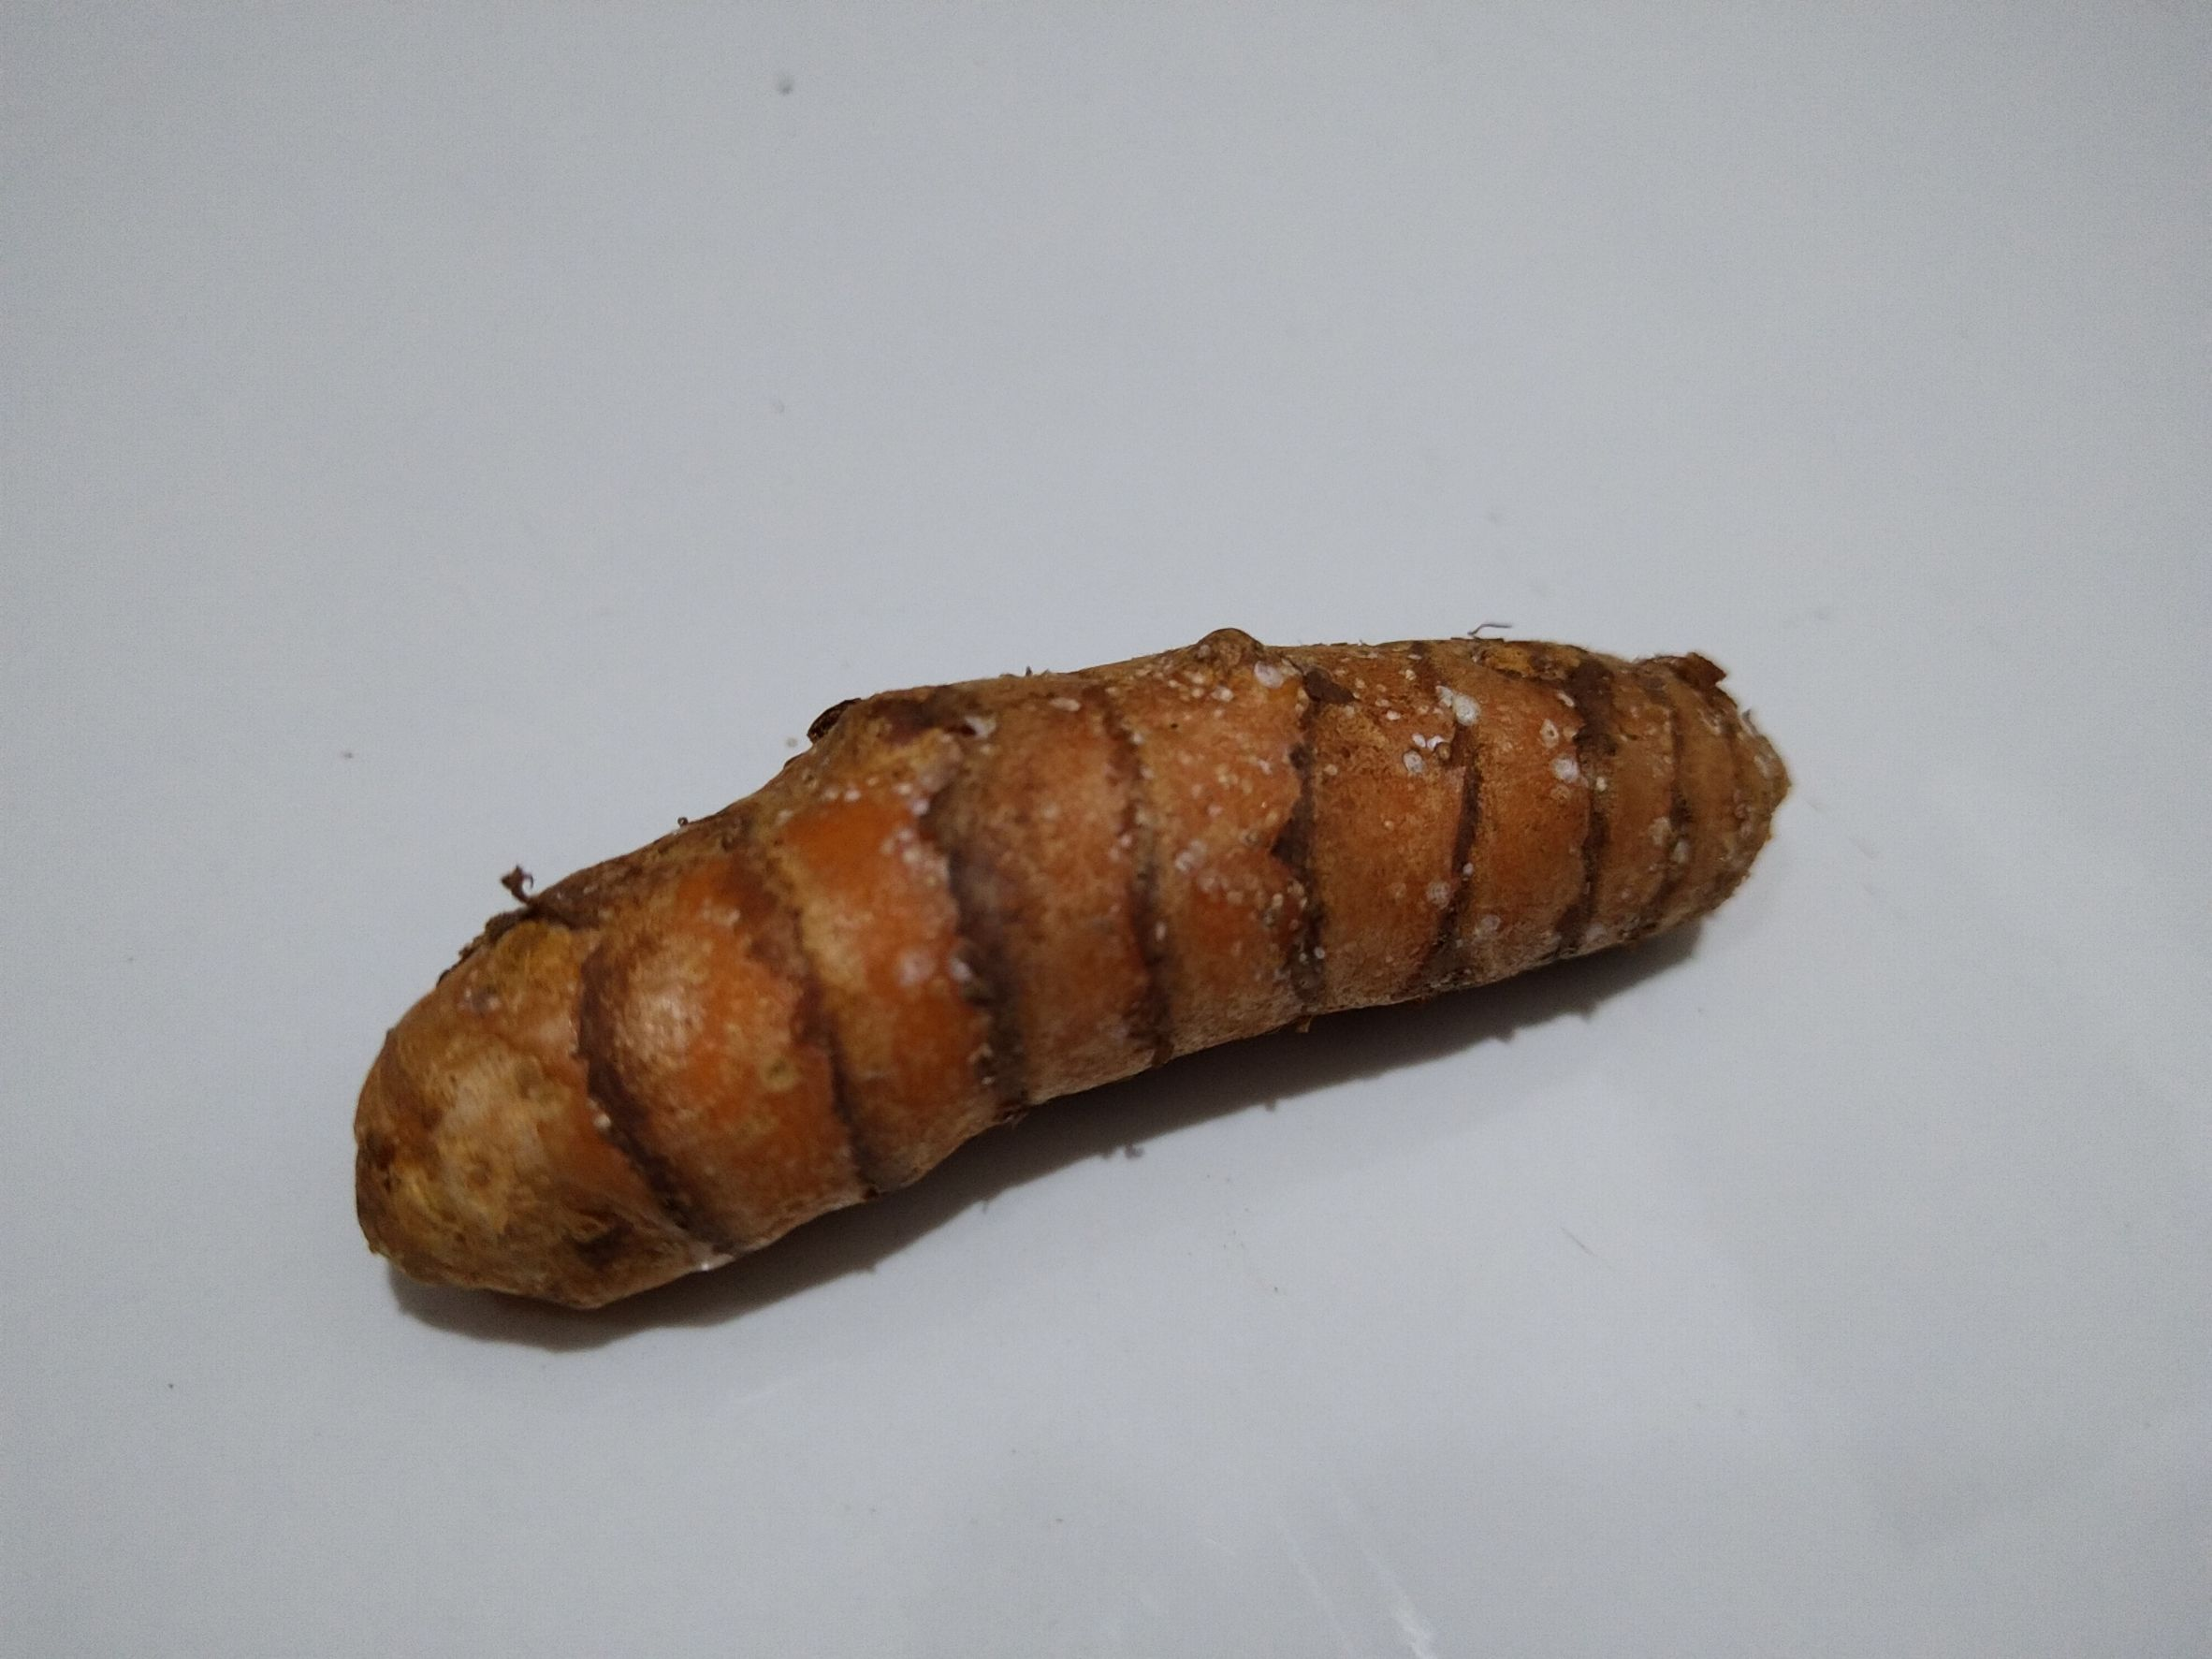Kunyit: (369, 669, 1754, 1302)
